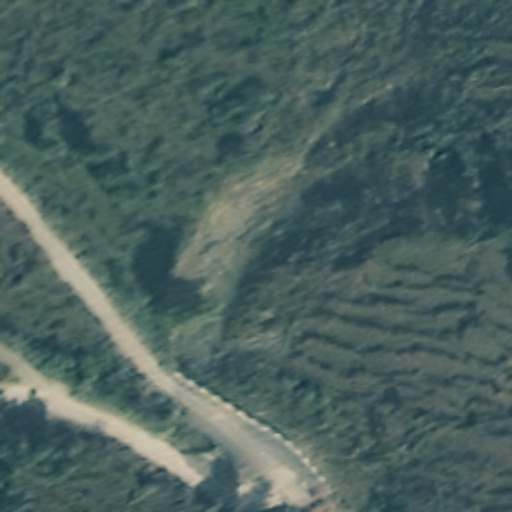landslide: (174, 149, 304, 329)
